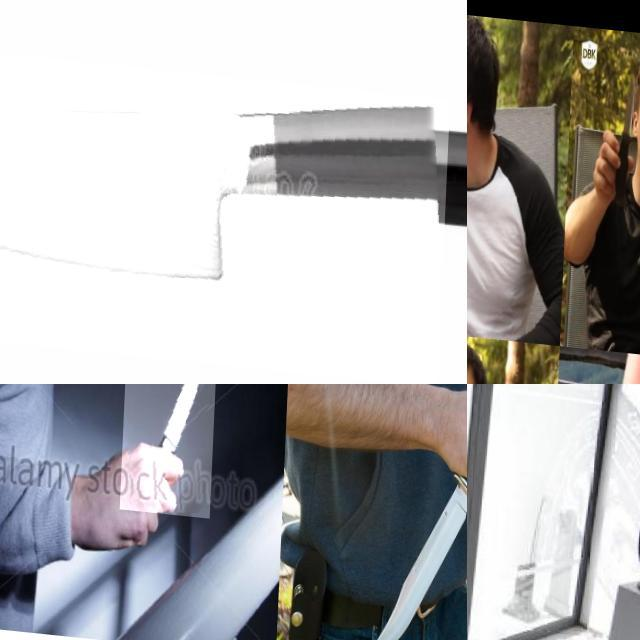-: (0, 42, 452, 375), (366, 393, 467, 640), (121, 384, 217, 512), (467, 82, 496, 251), (610, 59, 640, 175)
